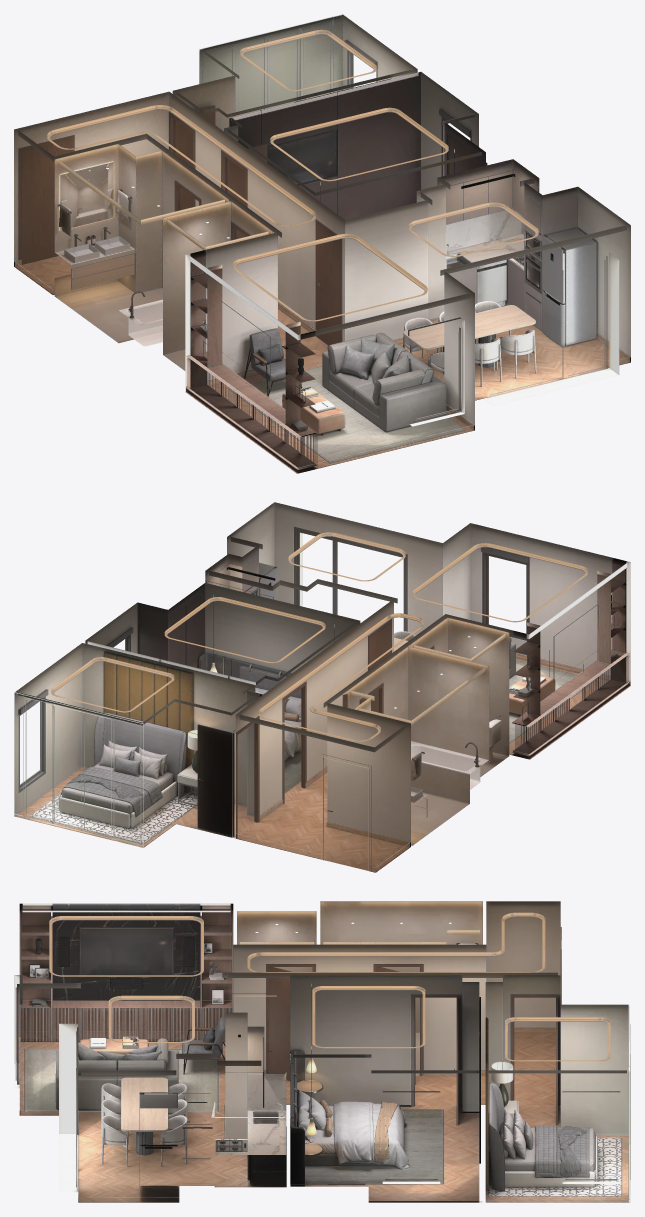
The model's file is apartment-2.glb.
The picture shows the model from 3 angles, top to bottom: view 1: azimuth 30°, elevation 25°; view 2: azimuth 150°, elevation 25°; view 3: azimuth 270°, elevation 25°; orthographic projection. The views are drawn at different scales.
Parts seen in each view (by area): view 1: Object_12, Object_4, Object_10, Object_6; view 2: Object_10, Object_4, Object_12, Object_6, Object_8; view 3: Object_12, Object_10, Object_4, Object_6, Object_8.
Part boxes in pixels (left/top/right/bottom): Object_12: left=185, top=159, right=630, bottom=473; Object_4: left=14, top=91, right=344, bottom=370; Object_10: left=169, top=14, right=487, bottom=238; Object_6: left=18, top=29, right=626, bottom=340; Object_10: left=14, top=583, right=360, bottom=847; Object_4: left=235, top=599, right=509, bottom=872; Object_12: left=205, top=502, right=630, bottom=759; Object_6: left=18, top=532, right=627, bottom=752; Object_8: left=60, top=687, right=301, bottom=816; Object_12: left=14, top=903, right=286, bottom=1202; Object_10: left=290, top=975, right=630, bottom=1202; Object_4: left=230, top=901, right=561, bottom=1104; Object_6: left=22, top=912, right=626, bottom=1075; Object_8: left=297, top=1090, right=595, bottom=1177.
Bounding box in the file's own units: 7.05 × 2.51 × 10.66.
Materials: 5 (5 with a texture image).
